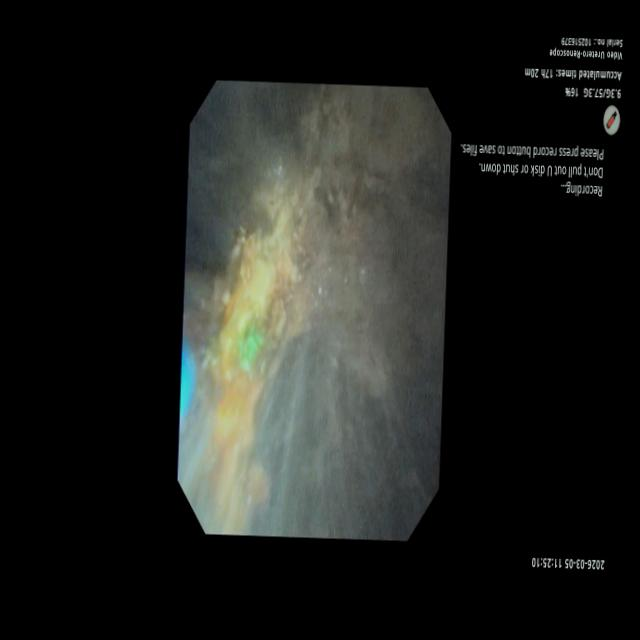laser_dot: (237, 325, 263, 373)
stone-new: (195, 88, 422, 534)
